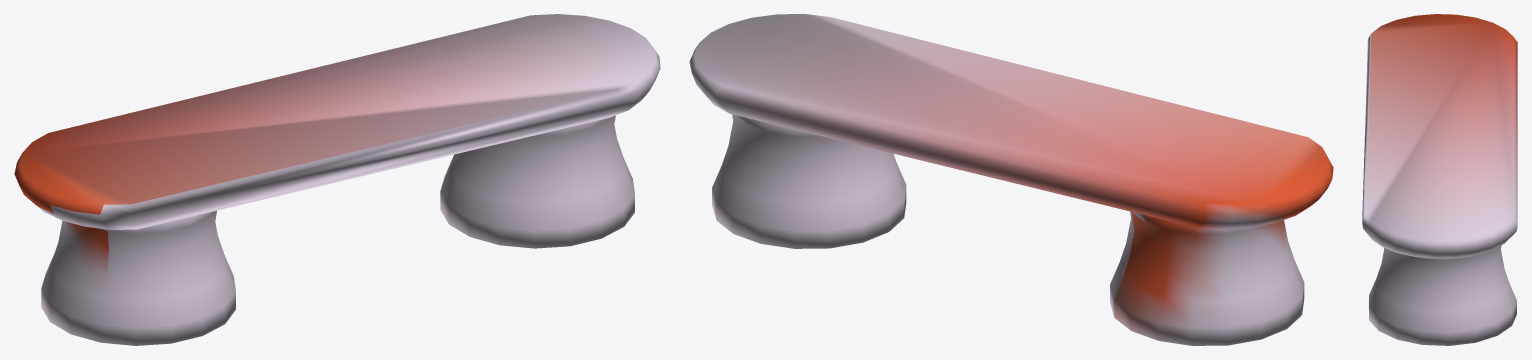
Rendered from Banco.fbx.
The picture shows the model from 3 angles, left to right: view 1: azimuth 30°, elevation 25°; view 2: azimuth 150°, elevation 25°; view 3: azimuth 270°, elevation 25°; orthographic projection. The views are drawn at different scales.
Parts seen in each view (by area): view 1: Circle; view 2: Circle; view 3: Circle.
Boxes of the visible parts, left/top/right/bottom form: Circle: left=14, top=14, right=660, bottom=345; Circle: left=689, top=14, right=1333, bottom=345; Circle: left=1362, top=14, right=1517, bottom=345.
Bounding box in the file's own units: 7.3 × 1.66 × 2.09.
